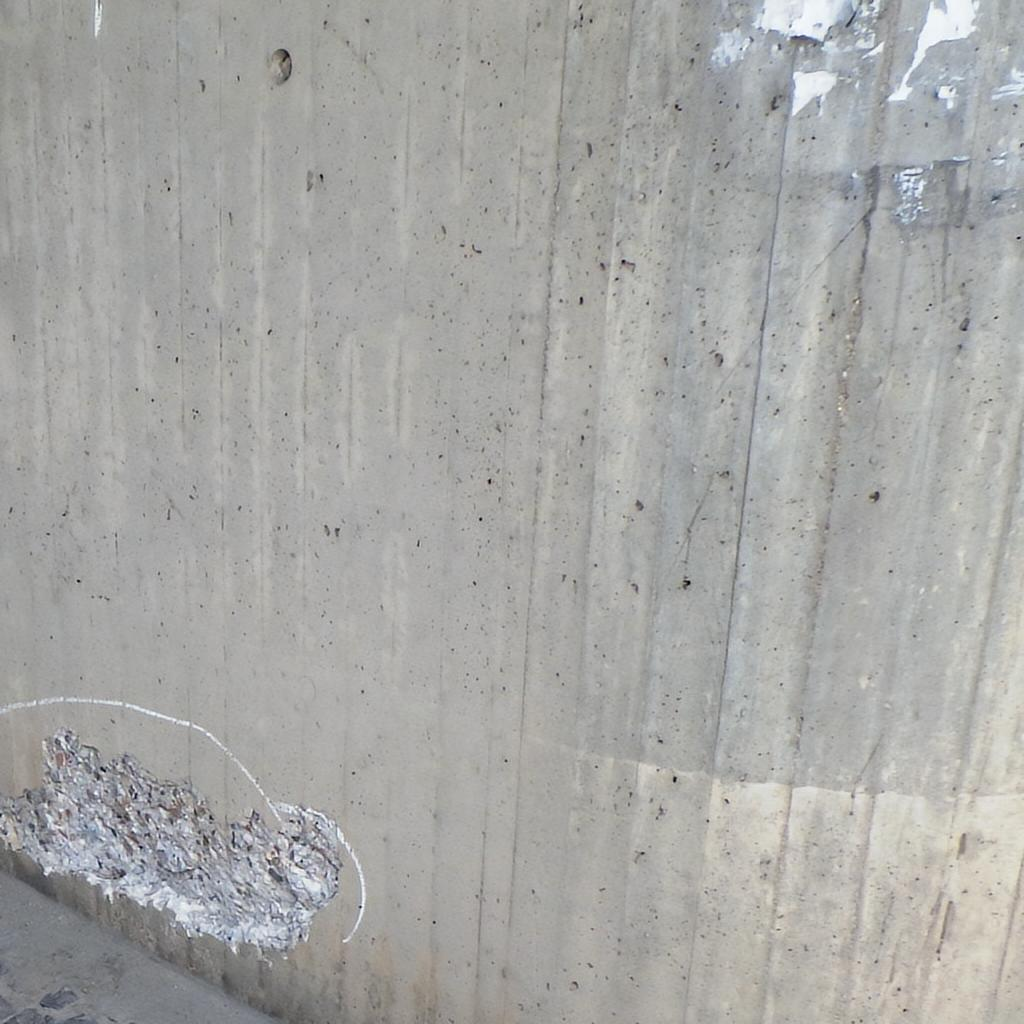spalling: (0, 728, 344, 950)
